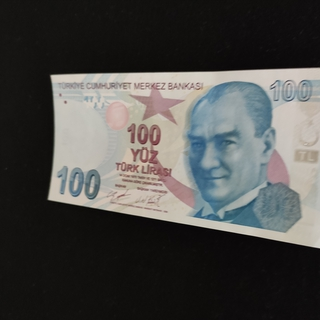100TLFront: (46, 66, 320, 249)
